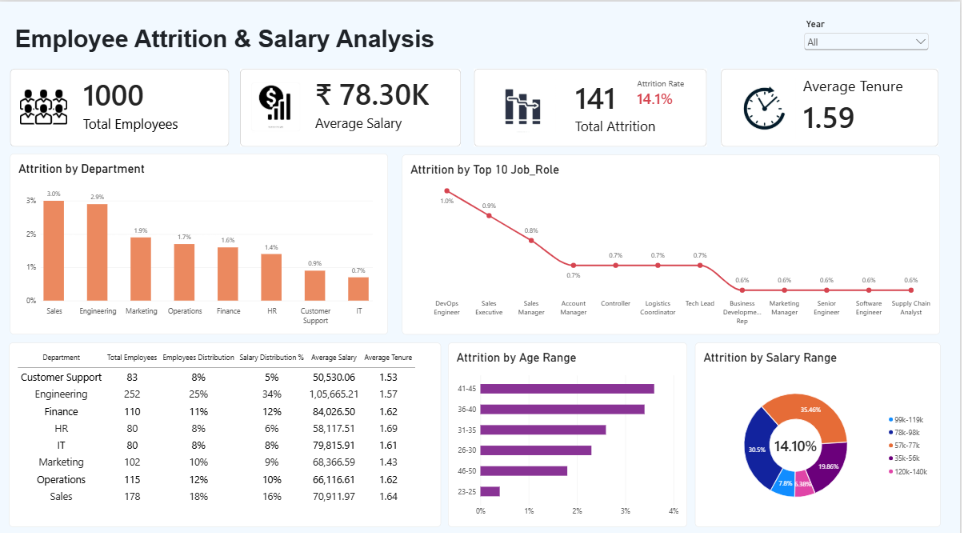

What the dashboard file says about the page in this screenshot:
{"tool":"powerbi","page":{"name":"Page 1","canvas":[1920,1080],"ordinal":0},"visuals":[{"type":"shape","box":[1441.8,134.5,434.5,156.4],"z":0},{"type":"shape","box":[947.3,134.5,465.5,156.4],"z":1000},{"type":"shape","box":[480,134.5,441.8,156.4],"z":2000},{"type":"cardVisual","fields":{"Data":["Employee Data.KPI Attrition"]},"box":[1249.1,145.5,141.8,80],"z":3000},{"type":"cardVisual","fields":{"Data":["Employee Data.Total Attrition"]},"box":[1125.5,145.5,216.4,132.7],"z":4000},{"type":"tableEx","fields":{"Values":["Data.Department","Data.Total Employees","Employee Data.Employees Distribution","Employee Data.Salary Distribution %","Employee Data.Average Salary","Employee Data.Average Tenure"]},"box":[18.2,681.8,863.6,369.1],"z":5000},{"type":"cardVisual","fields":{"Data":["Employee Data.Average Salary"]},"box":[605.5,150.9,278.2,110.9],"z":6000},{"type":"cardVisual","fields":{"Data":["Employee Data.Average Tenure"]},"box":[1581.8,145.5,283.6,130.9],"z":7000},{"type":"columnChart","title":"Attrition by Department","fields":{"Category":["Employee Data.Department"],"Y":["Employee Data.Attrition%"]},"box":[20,303.6,756.4,361.8],"z":8000},{"type":"lineChart","title":"Attrition by Top 10 Job_Role","fields":{"Category":["Employee Data.Job_Role"],"Y":["Employee Data.Attrition%"]},"box":[803.6,305.5,1076.4,360],"z":9000},{"type":"clusteredBarChart","title":"Attrition by Age Range","fields":{"Category":["Employee Data.Age Range"],"Y":["Employee Data.Attrition%"]},"box":[896.4,681.8,478.2,369.1],"z":10000},{"type":"donutChart","title":"Attrition by Salary Range","fields":{"Category":["Employee Data.Salary Range"],"Y":["Employee Data.Attrition%"]},"box":[1389.1,681.8,490.9,369.1],"z":11000},{"type":"textbox","box":[18.1,29,863.2,81.4],"z":12000},{"type":"slicer","fields":{"Values":["Employee Data.Year"]},"box":[1600,29.1,265.5,81.8],"z":13000},{"type":"shape","box":[20,134.5,438.2,156.4],"z":14000},{"type":"cardVisual","fields":{"Data":["Employee Data.Total Employees"]},"box":[141.8,136.4,316.4,141.8],"z":15000},{"type":"image","box":[498.2,160,107.3,101.8],"z":16000},{"type":"image","box":[40,160,94.5,101.8],"z":17000},{"type":"image","box":[980,150.9,130.9,110.9],"z":18000},{"type":"image","box":[1460,150.9,136.4,125.5],"z":19000}]}

Visuals, with their boxes in screenshot pixels (x1, y1, x2, y2), scaled from the page's 1920x1080 canvas onto the 962x533 screenshot:
shape: {"left": 722, "top": 66, "right": 940, "bottom": 144}
shape: {"left": 475, "top": 66, "right": 708, "bottom": 144}
shape: {"left": 241, "top": 66, "right": 462, "bottom": 144}
cardVisual - Employee Data.KPI Attrition: {"left": 626, "top": 72, "right": 697, "bottom": 111}
cardVisual - Employee Data.Total Attrition: {"left": 564, "top": 72, "right": 672, "bottom": 137}
tableEx - Data.Department x Data.Total Employees: {"left": 9, "top": 336, "right": 442, "bottom": 519}
cardVisual - Employee Data.Average Salary: {"left": 303, "top": 74, "right": 443, "bottom": 129}
cardVisual - Employee Data.Average Tenure: {"left": 793, "top": 72, "right": 935, "bottom": 136}
"Attrition by Department" columnChart: {"left": 10, "top": 150, "right": 389, "bottom": 328}
"Attrition by Top 10 Job_Role" lineChart: {"left": 403, "top": 151, "right": 942, "bottom": 328}
"Attrition by Age Range" clusteredBarChart: {"left": 449, "top": 336, "right": 689, "bottom": 519}
"Attrition by Salary Range" donutChart: {"left": 696, "top": 336, "right": 942, "bottom": 519}
textbox: {"left": 9, "top": 14, "right": 442, "bottom": 54}
slicer - Employee Data.Year: {"left": 802, "top": 14, "right": 935, "bottom": 55}
shape: {"left": 10, "top": 66, "right": 230, "bottom": 144}
cardVisual - Employee Data.Total Employees: {"left": 71, "top": 67, "right": 230, "bottom": 137}
image: {"left": 250, "top": 79, "right": 303, "bottom": 129}
image: {"left": 20, "top": 79, "right": 67, "bottom": 129}
image: {"left": 491, "top": 74, "right": 557, "bottom": 129}
image: {"left": 732, "top": 74, "right": 800, "bottom": 136}
